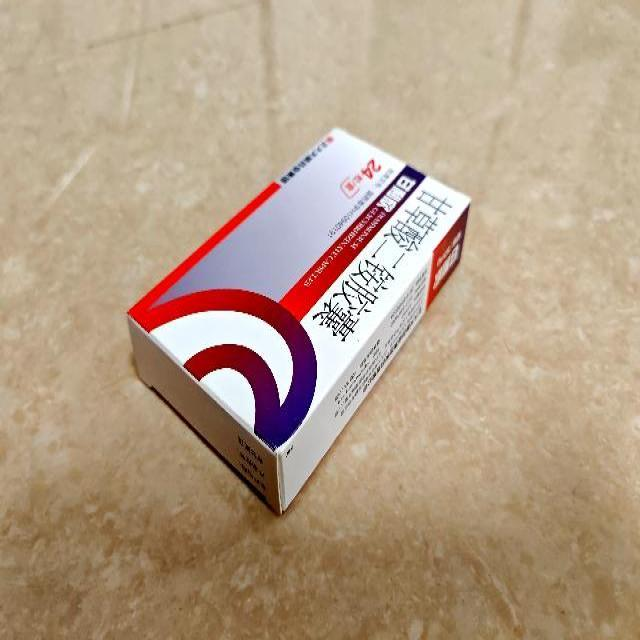box: (128, 126, 472, 516)
